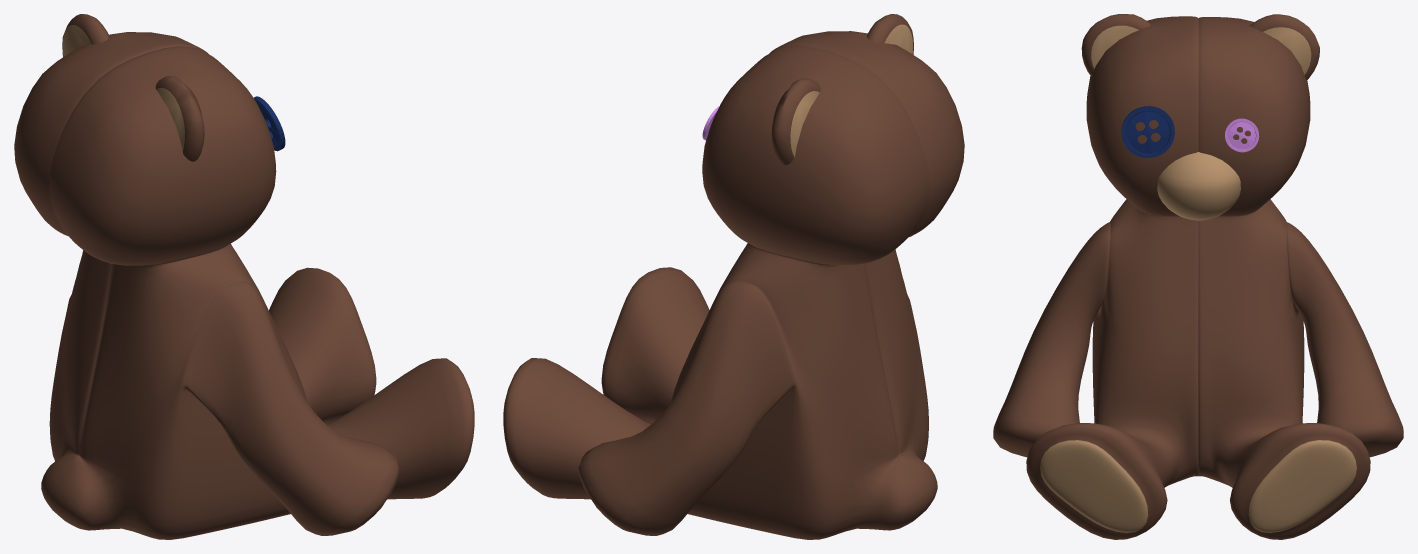
The model's file is bear.fbx.
3 views of the same model, side by side, from view 1: azimuth 30°, elevation 25°; view 2: azimuth 150°, elevation 25°; view 3: azimuth 270°, elevation 25° (orthographic). The views are drawn at different scales.
Parts seen in each view (by area): view 1: Ours; view 2: Ours; view 3: Ours.
Part boxes in pixels (x1,y1,x2,y2): Ours: (14, 14, 474, 539); Ours: (503, 14, 964, 539); Ours: (993, 14, 1403, 539).
Size of the model in its own units: 294 by 370 by 328.
